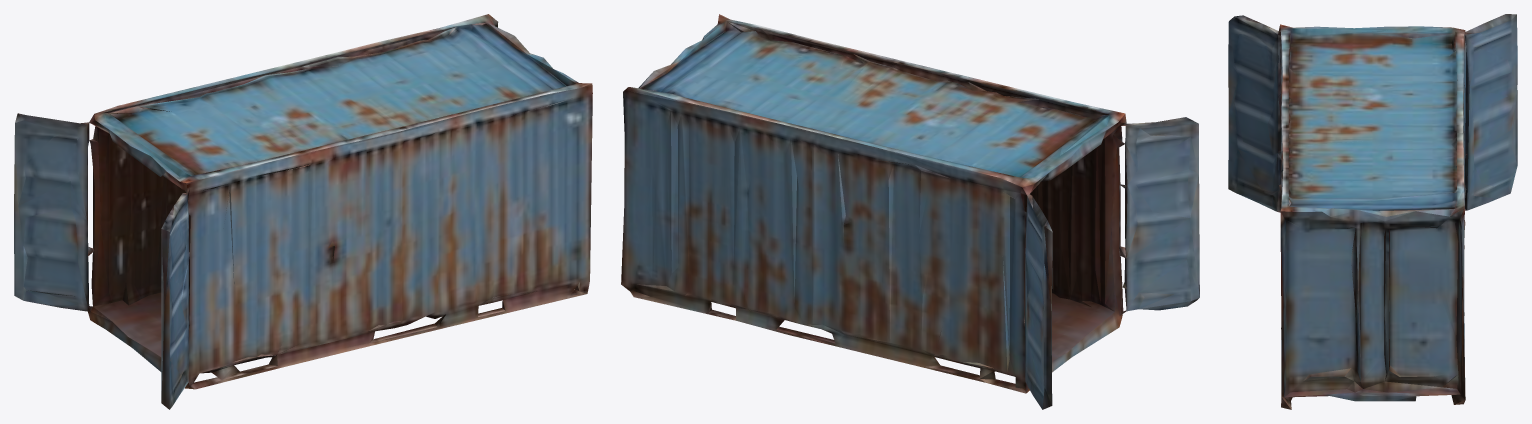
The model's file is cargo_container_old_rusty.glb.
The picture shows the model from 3 angles, left to right: view 1: azimuth 30°, elevation 25°; view 2: azimuth 150°, elevation 25°; view 3: azimuth 270°, elevation 25°; orthographic projection. The views are drawn at different scales.
Visible parts, largest first — view 1: turn; view 2: turn; view 3: turn.
Part boxes in pixels (x1=…): turn: x1=14, y1=14, x2=592, y2=409; turn: x1=621, y1=14, x2=1199, y2=409; turn: x1=1228, y1=14, x2=1517, y2=409.
Bounding box in the file's own units: 5.92 × 2.6 × 3.43.
Materials: 1 (1 with a texture image).
